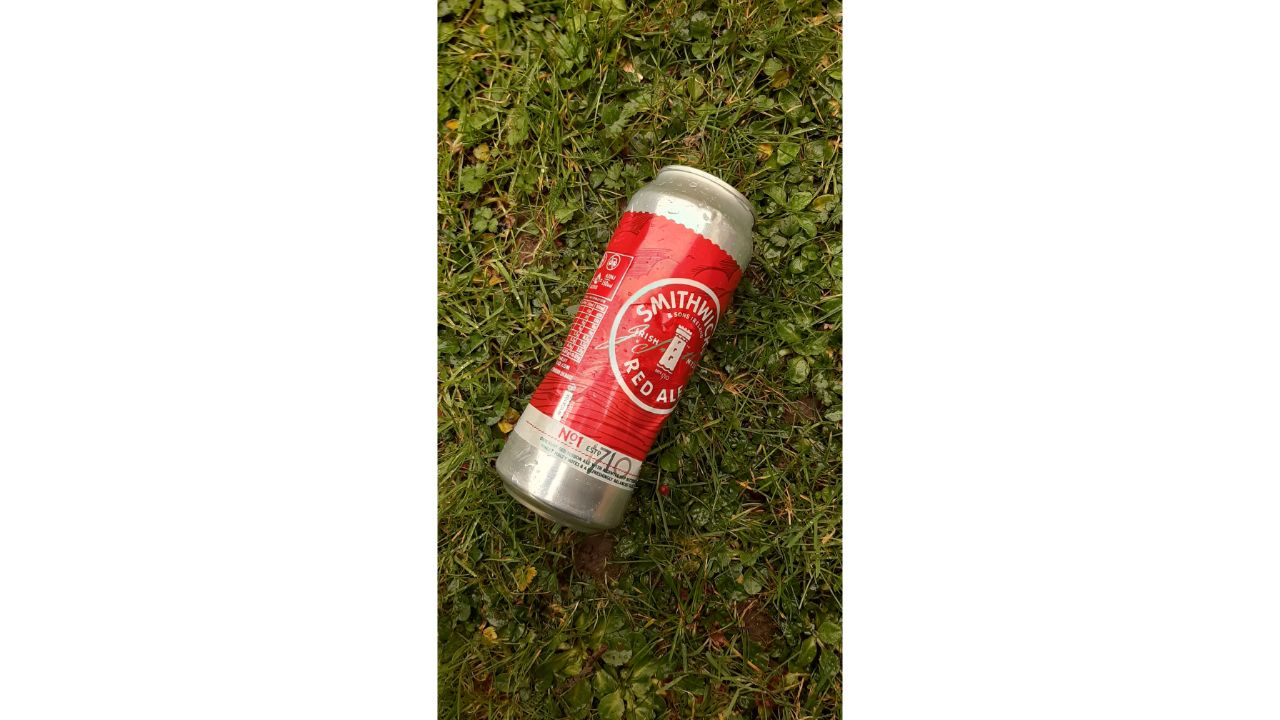Can: (488, 163, 756, 532)
